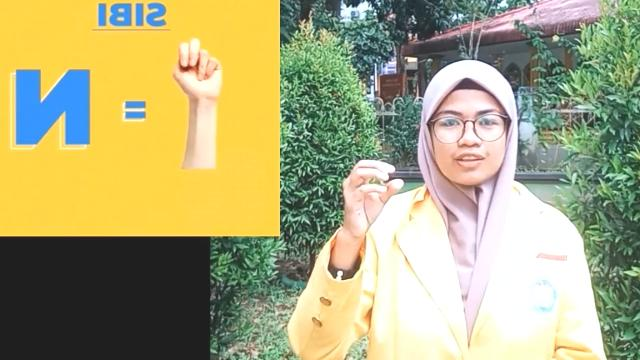O: (334, 162, 406, 240)
